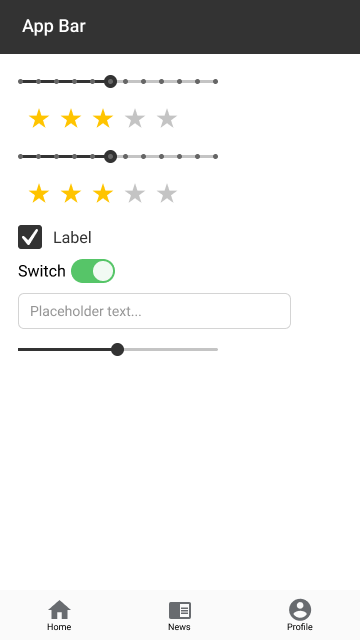checkBox: (14, 221, 107, 253)
editText: (16, 290, 295, 331)
navigationButton: (1, 587, 360, 640)
ratingBar: (23, 180, 182, 210), (26, 105, 180, 131)
slider: (15, 149, 224, 164), (16, 74, 222, 88)
slider1: (14, 342, 220, 356)
switch: (15, 258, 124, 285)
toolbar: (2, 1, 360, 55)
